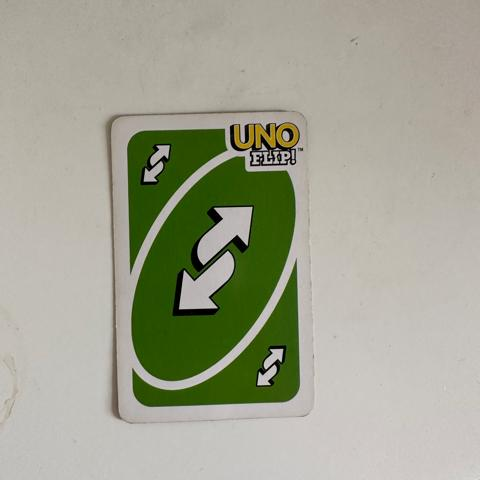5_red: (173, 203, 258, 319), (138, 136, 178, 189), (253, 345, 287, 390)
